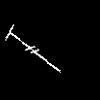treble_crochet: (6, 25, 59, 70)
